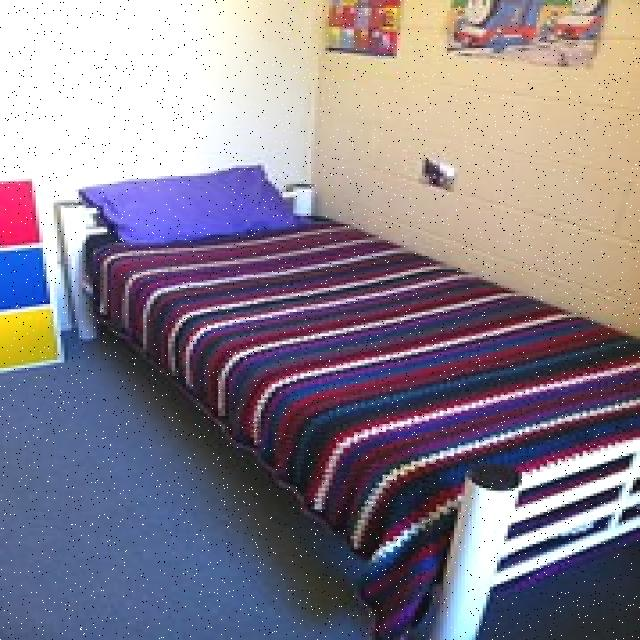bed: (55, 173, 640, 630)
